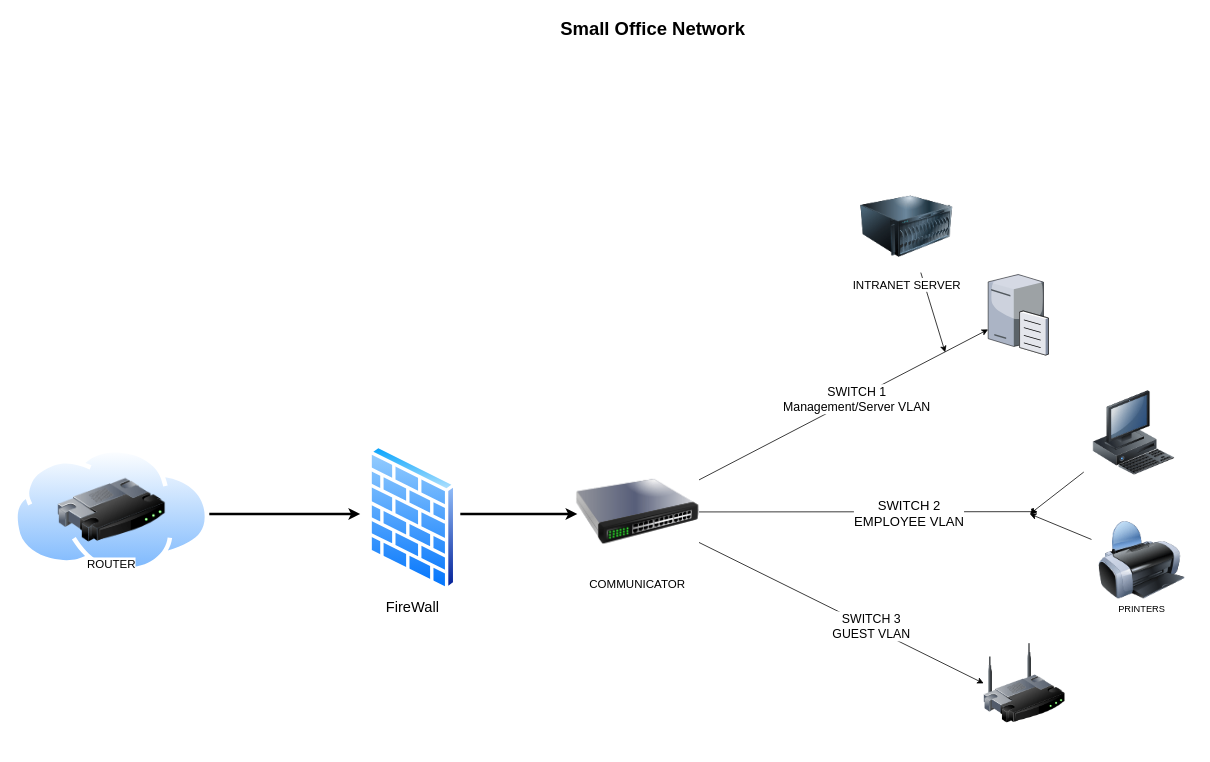
This 1210x762 diagram has some shape labels left out. The centre of each missing label's shape, as x and y in pixels:
"EMPLOYEE WORKSTATIONS" goes at (1133,432).
"FILE SERVER" goes at (1018,313).
"GUEST Wi-Fi ROUTER" goes at (1024,683).
